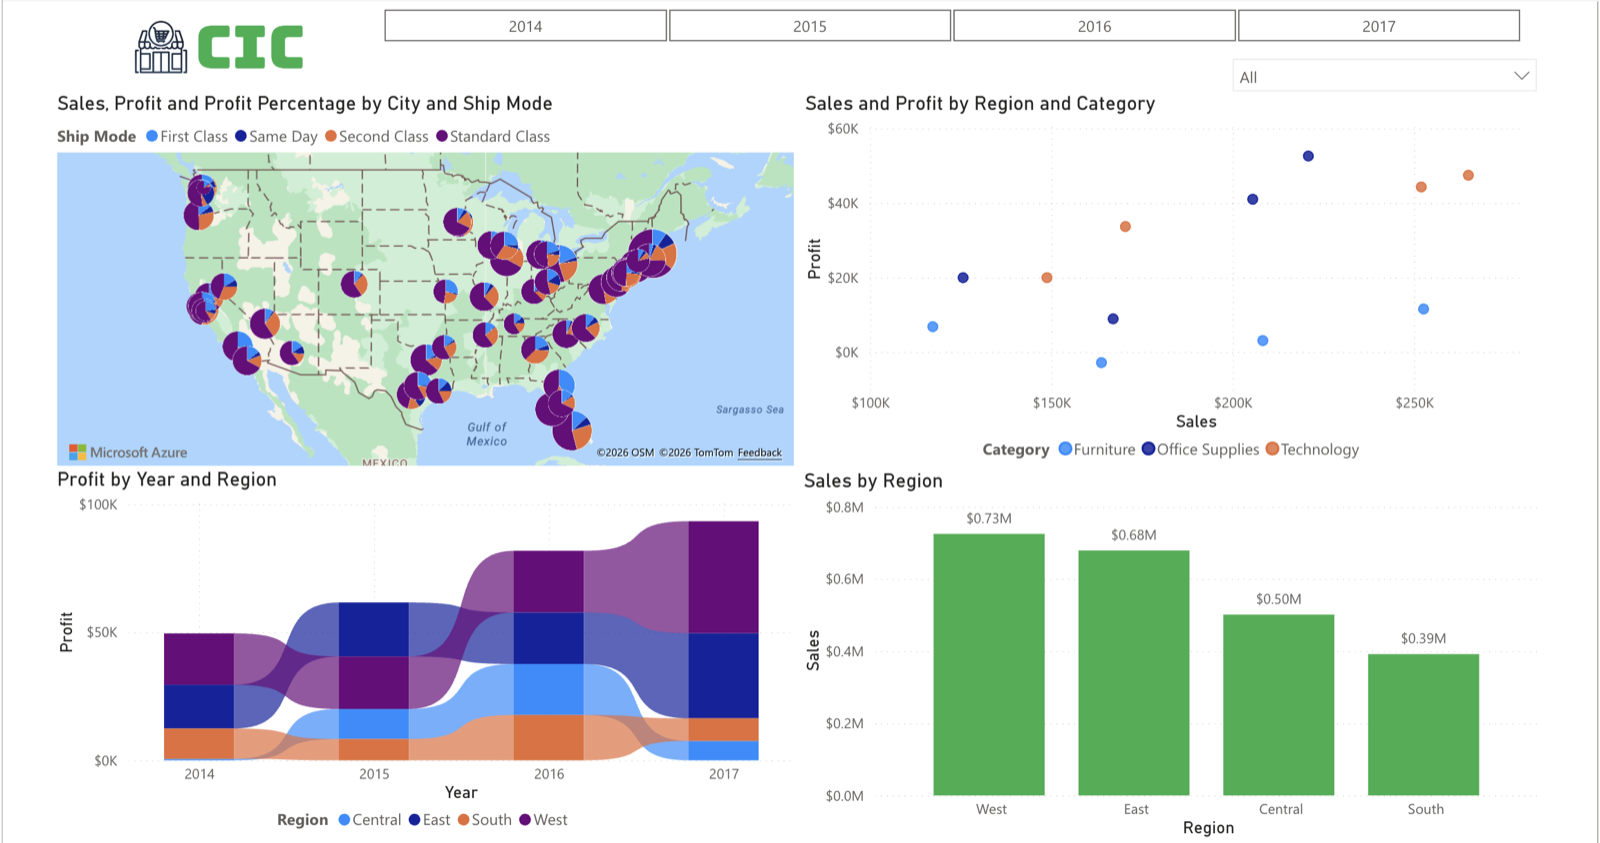

The dashboard page shown, as its layout file describes it:
{"tool":"powerbi","page":{"name":"Region","canvas":[1280,720],"ordinal":1},"visuals":[{"type":"slicer","fields":{"Values":["Date Table.Year"]},"box":[259.2,0,1021.2,39.4],"z":0},{"type":"slicer","fields":{"Values":["Date Table.Month"]},"box":[1000.5,39.4,279.9,39.4],"z":1000},{"type":"azureMap","fields":{"Size":["CIC.Sales"],"Category":["CIC.City"],"Series":["CIC.Ship Mode"]},"box":[0,78.8,639.7,322.4],"z":2000},{"type":"ribbonChart","fields":{"Category":["Date Table.Date.Variation.Date Hierarchy.Year","Date Table.Date.Variation.Date Hierarchy.Quarter","Date Table.Date.Variation.Date Hierarchy.Month","Date Table.Date.Variation.Date Hierarchy.Day"],"Series":["CIC.Region"],"Y":["CIC.Profit_M"]},"box":[0,401.2,639.7,318.3],"z":3000},{"type":"image","box":[0,0,284.1,78.8],"z":4000},{"type":"scatterChart","fields":{"X":["CIC.Sales_M"],"Y":["CIC.Profit_M"],"Category":["CIC.Region"],"Series":["CIC.Category"]},"box":[639.7,78.8,640.7,322.4],"z":5000},{"type":"columnChart","fields":{"Category":["CIC.Region"],"Y":["CIC.Sales_M"]},"box":[638.5,402.1,641.2,317.9],"z":6000}]}

Visuals, with their boxes on the page's 1280x720 design canvas (x1, y1, x2, y2). These are canvas units, not pixel positions in the 1600x843 screenshot, which may show the page scaled, cropped or inside an application window:
slicer - Date Table.Year: x1=259, y1=0, x2=1280, y2=39
slicer - Date Table.Month: x1=1000, y1=39, x2=1280, y2=79
azureMap - CIC.Sales x CIC.City: x1=0, y1=79, x2=640, y2=401
ribbonChart - Date Table.Date.Variation.Date Hierarchy.Year x Date Table.Date.Variation.Date Hierarchy.Quarter: x1=0, y1=401, x2=640, y2=720
image: x1=0, y1=0, x2=284, y2=79
scatterChart - CIC.Sales_M x CIC.Profit_M: x1=640, y1=79, x2=1280, y2=401
columnChart - CIC.Region x CIC.Sales_M: x1=638, y1=402, x2=1280, y2=720
